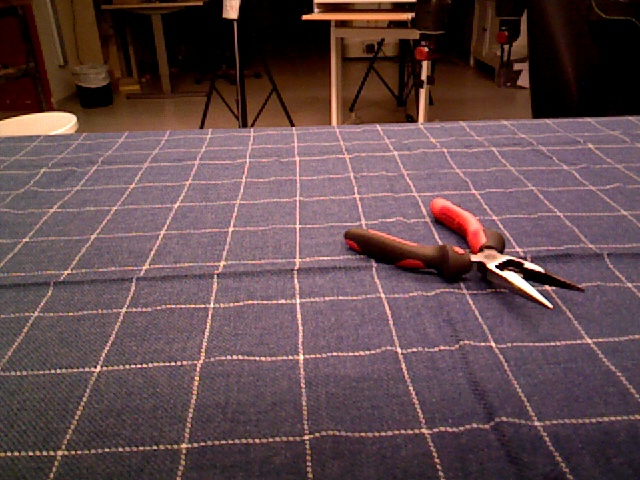plier1: (343, 197, 589, 310)
